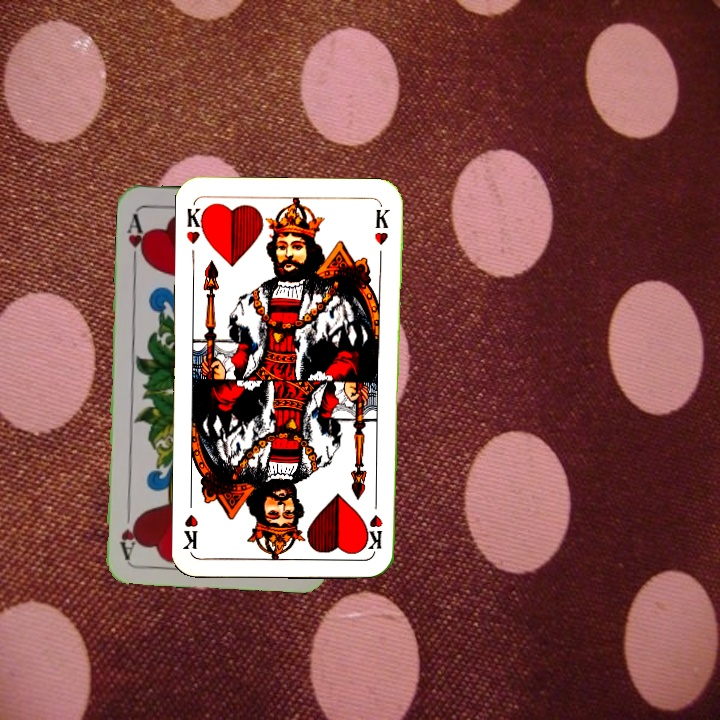HA: (123, 209, 150, 268)
HK: (182, 201, 209, 246), (365, 493, 385, 552)
